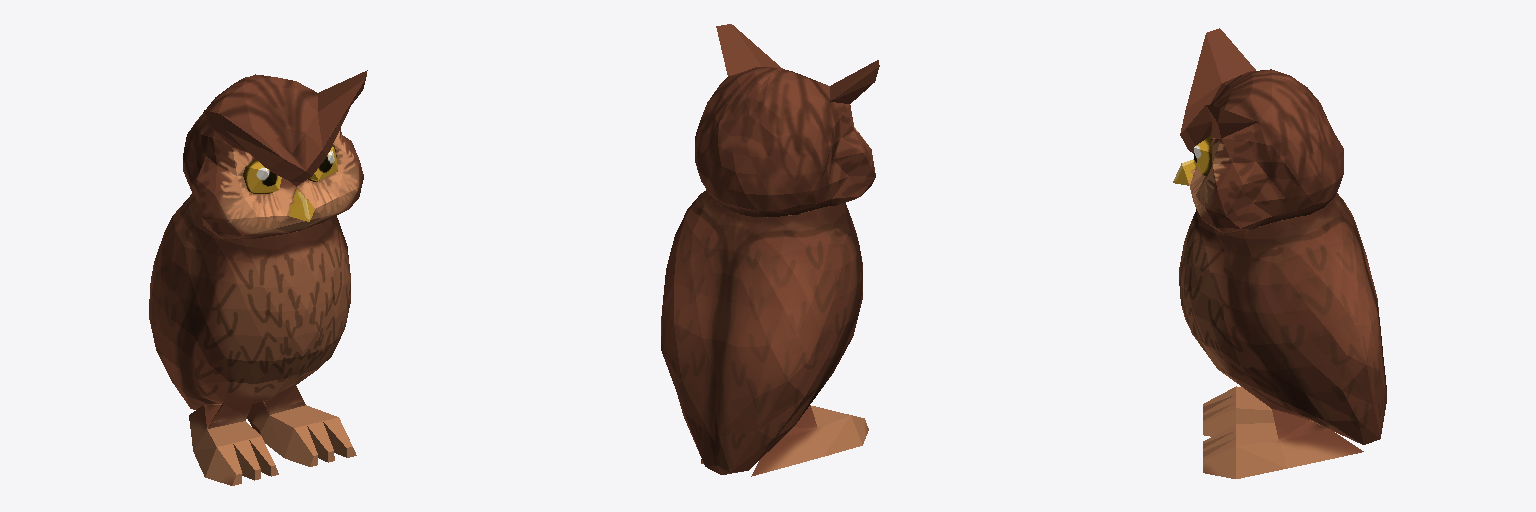
3 views of the same model, side by side, from view 1: azimuth 30°, elevation 25°; view 2: azimuth 150°, elevation 25°; view 3: azimuth 270°, elevation 25° (orthographic).
Visible parts, largest first — view 1: Icosphere.001_Icosphere.002, Icosphere.002_Icosphere.001; view 2: Icosphere.001_Icosphere.002; view 3: Icosphere.001_Icosphere.002, Icosphere.002_Icosphere.001.
Part boxes in pixels (left/top/right/bottom): Icosphere.001_Icosphere.002: left=149, top=70, right=367, bottom=485; Icosphere.002_Icosphere.001: left=243, top=145, right=337, bottom=193; Icosphere.001_Icosphere.002: left=661, top=24, right=879, bottom=476; Icosphere.001_Icosphere.002: left=1173, top=28, right=1386, bottom=478; Icosphere.002_Icosphere.001: left=1194, top=135, right=1212, bottom=175.
Size of the model in its own units: 2.07 by 4.53 by 2.35.
1 materials, 1 textured.